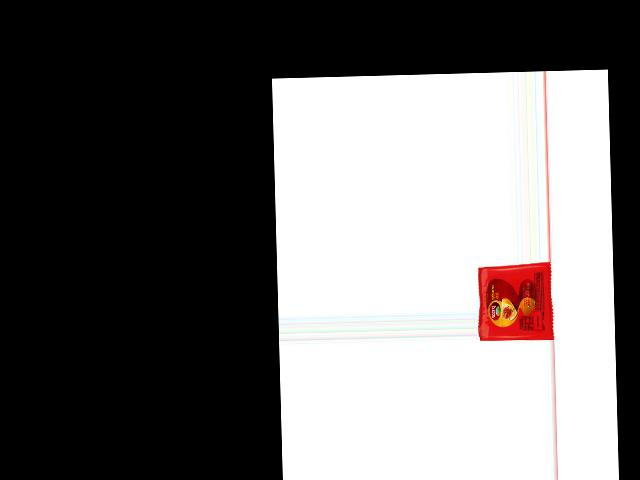cheese: (477, 264, 554, 342)
